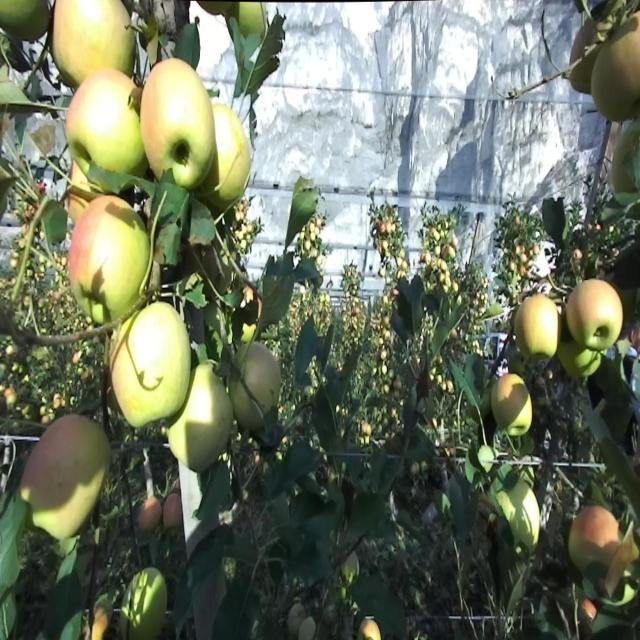apple: (68, 200, 156, 334), (112, 298, 192, 430), (140, 56, 211, 196), (68, 70, 152, 180), (48, 0, 132, 92), (168, 362, 231, 476), (200, 106, 252, 212), (72, 205, 124, 306), (52, 0, 104, 91), (212, 106, 252, 212), (568, 284, 625, 356), (184, 362, 232, 446), (604, 6, 640, 114), (568, 504, 620, 576), (174, 106, 213, 194), (560, 298, 599, 382), (92, 6, 136, 73), (48, 483, 96, 544), (172, 419, 224, 475), (492, 369, 534, 437), (184, 362, 223, 434), (32, 490, 83, 544), (132, 568, 169, 638), (524, 298, 562, 363), (244, 348, 281, 414), (612, 13, 640, 100), (608, 122, 640, 197), (116, 106, 148, 181), (572, 28, 603, 98), (560, 321, 595, 382), (508, 490, 541, 553), (4, 1, 51, 44), (232, 383, 263, 432), (568, 42, 594, 98), (240, 284, 263, 343), (232, 383, 256, 432), (156, 227, 182, 268), (236, 6, 266, 39), (620, 525, 640, 574), (512, 305, 531, 356), (164, 490, 184, 533), (140, 13, 160, 55), (140, 497, 163, 533), (580, 596, 599, 631), (92, 611, 109, 638), (198, 6, 230, 20)
